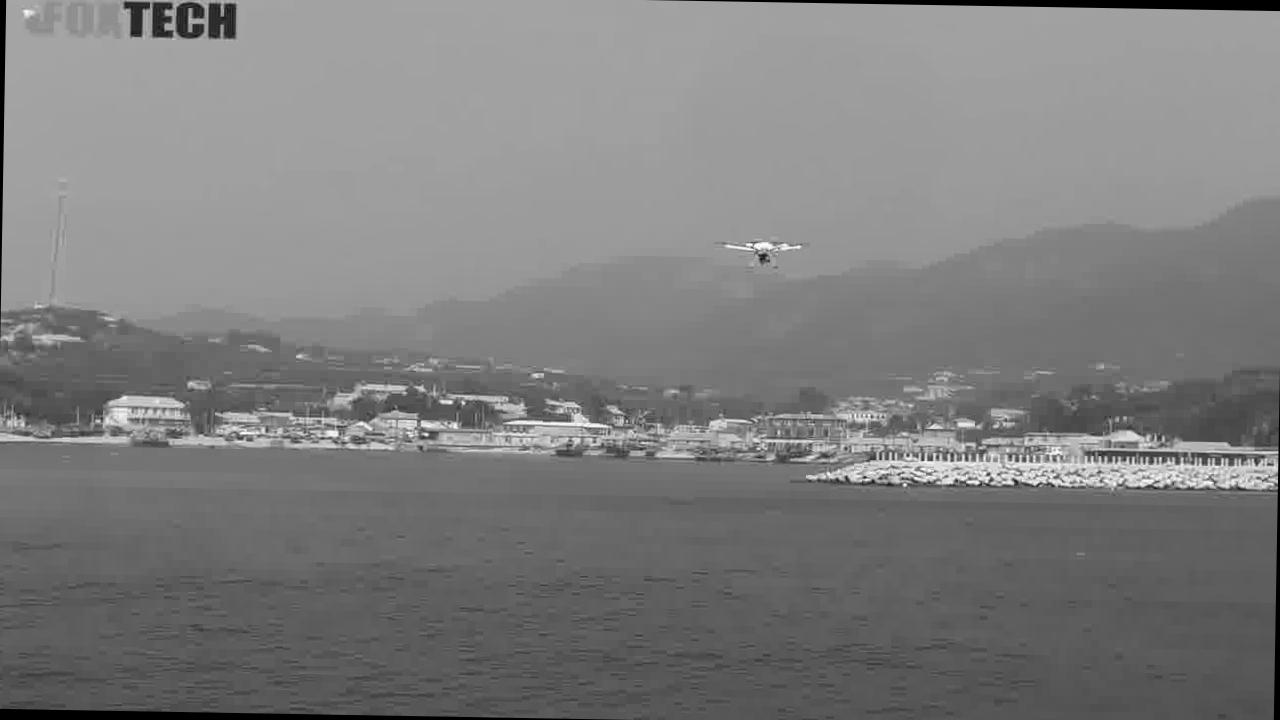drone: (706, 232, 824, 273)
